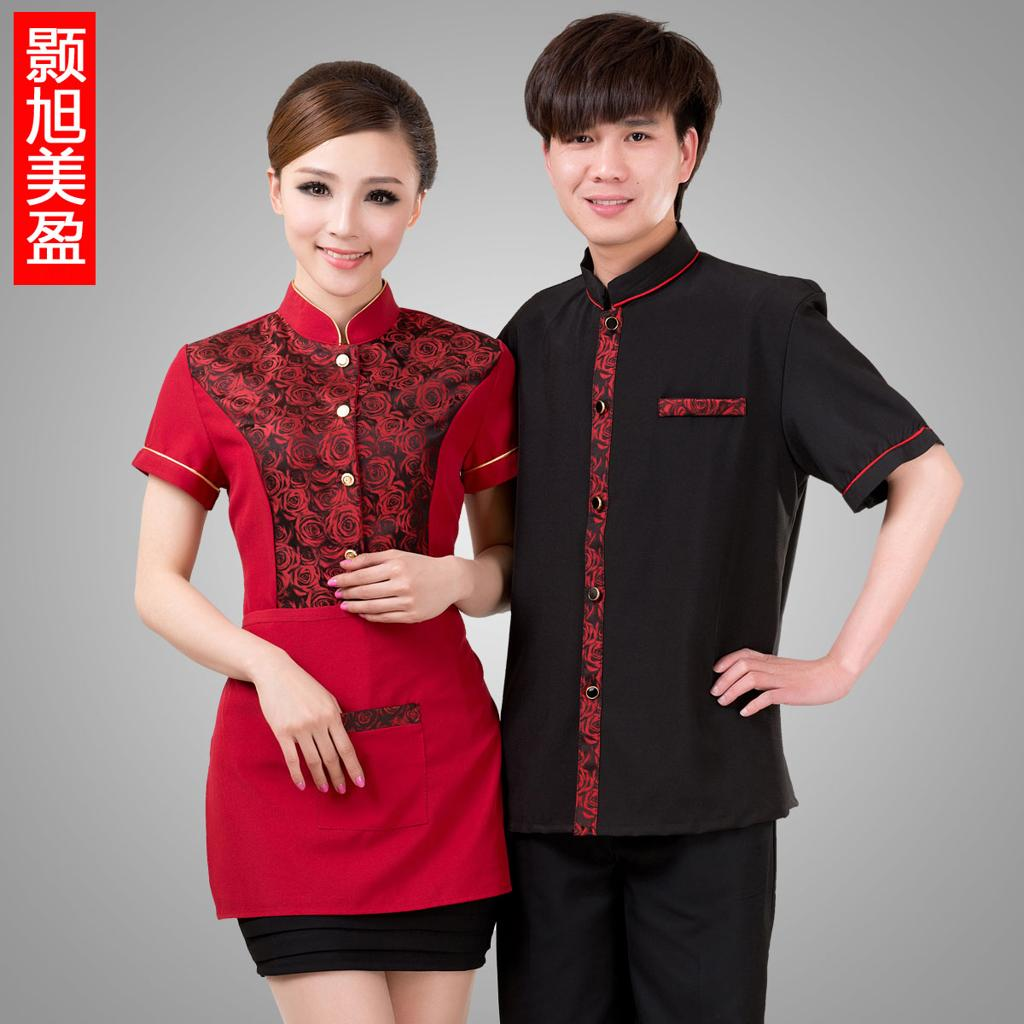face: (280, 130, 422, 296), (548, 90, 680, 244)
